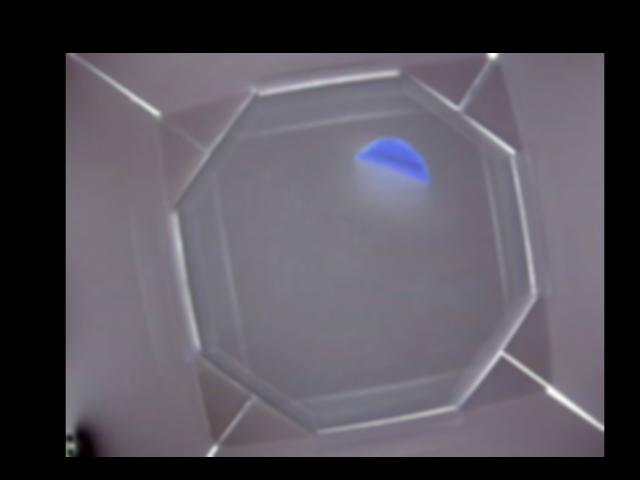Potato: (356, 137, 428, 181)
